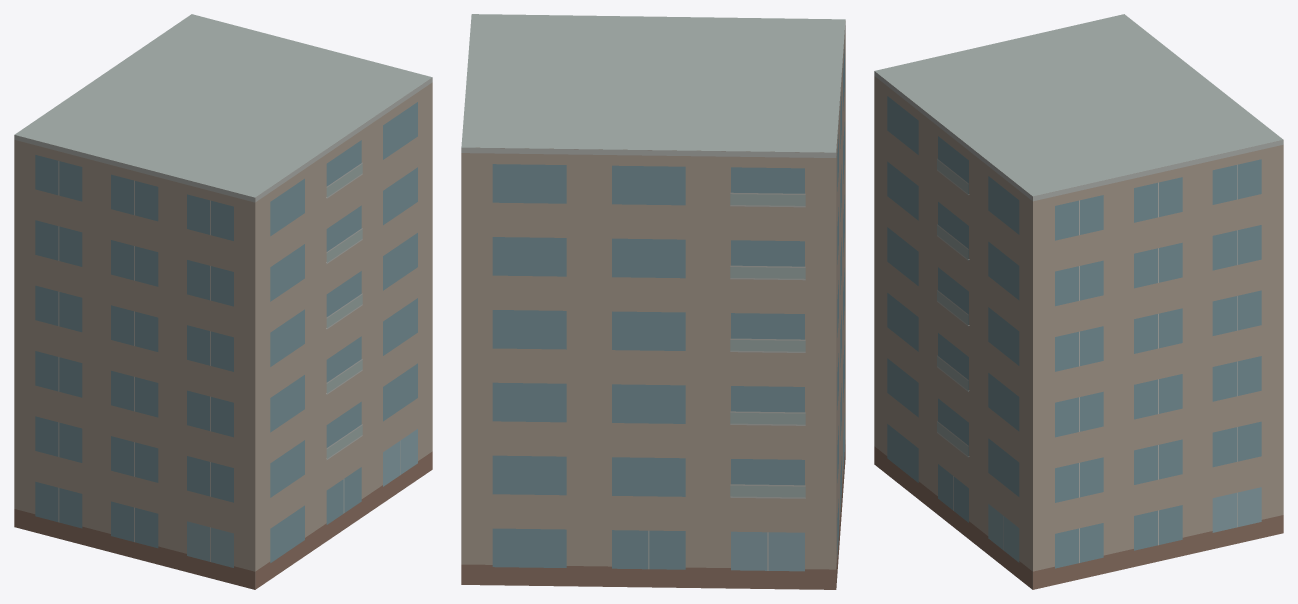
File: survey-upis-32980991.glb
3 renders of one model, left to right at view 1: azimuth 30°, elevation 25°; view 2: azimuth 150°, elevation 25°; view 3: azimuth 270°, elevation 25°, orthographic. The views are drawn at different scales.
Visible parts, largest first — view 1: survey-upis-32980991.tmp; view 2: survey-upis-32980991.tmp; view 3: survey-upis-32980991.tmp.
Boxes of the visible parts, box(x1,y1,x2,y2) form: survey-upis-32980991.tmp: box(14, 14, 432, 589); survey-upis-32980991.tmp: box(461, 14, 845, 589); survey-upis-32980991.tmp: box(874, 14, 1283, 589).
Size of the model in its own units: 19.3 by 19.4 by 18.3.
